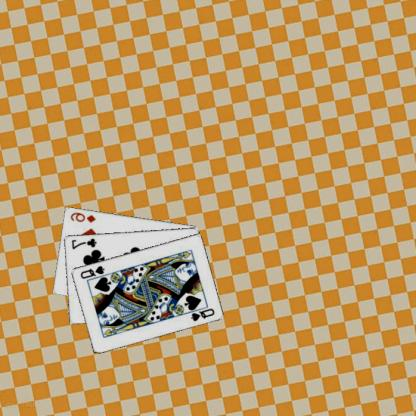6D: (70, 209, 98, 224)
7C: (70, 236, 99, 250)
QS: (80, 263, 108, 279), (190, 306, 217, 322)
